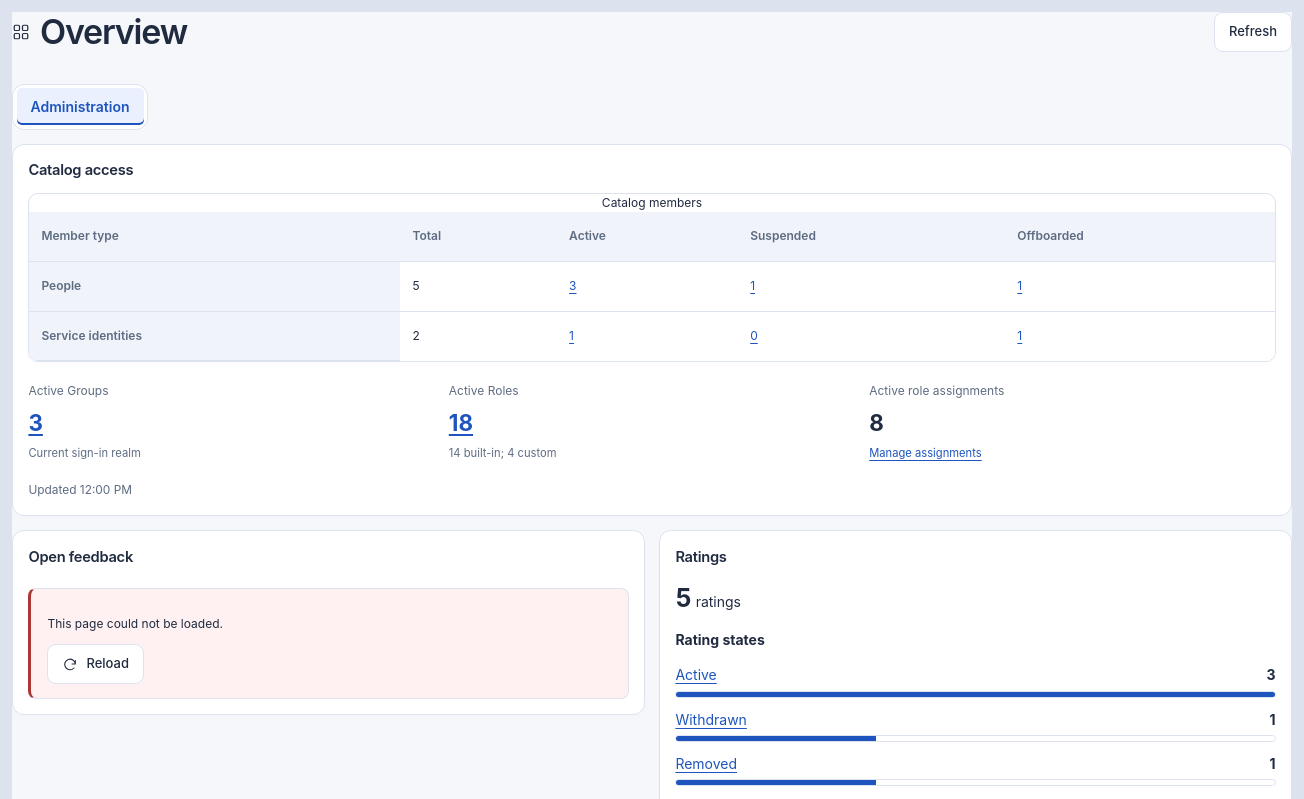
Test: keeps other panels on failure and retries only the failed summary
This screenshot has width=1304, height=799.
Expected: the message "This page could not be loaded. Reload" is shown, [28,588,629,699]
Expected: the text "14 built-in; 4 custom" is shown, [449,446,557,460]
Click the button "Reload". click: (96, 664)
box: [47,644,144,684]
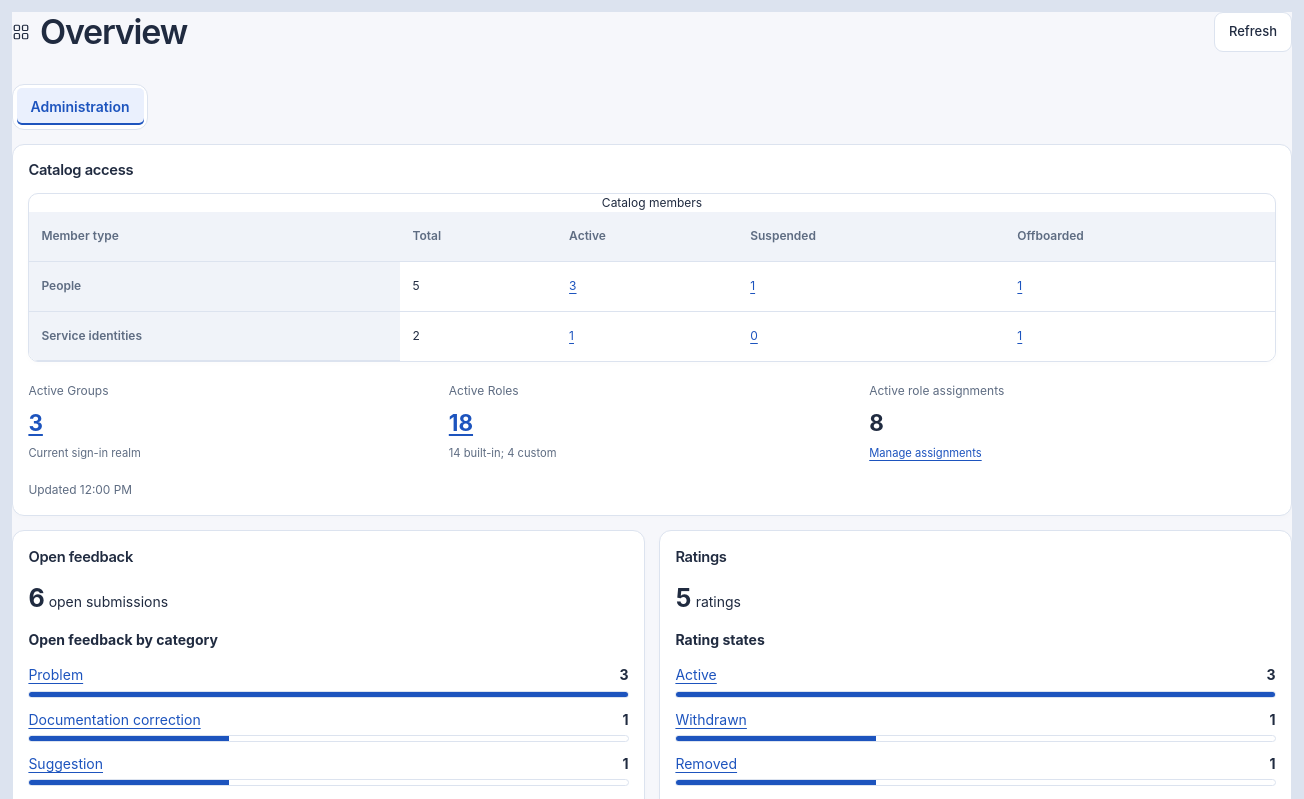
Now the text "6" is shown, box [28,583,45,613]
Now the message "This page could not be loaded. Reload" is gone
